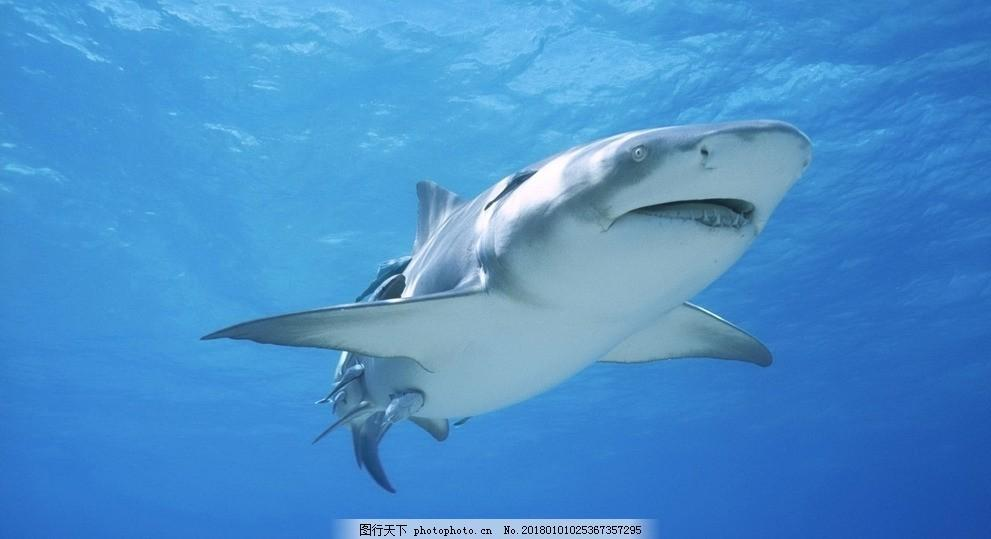fish: (196, 110, 819, 494)
